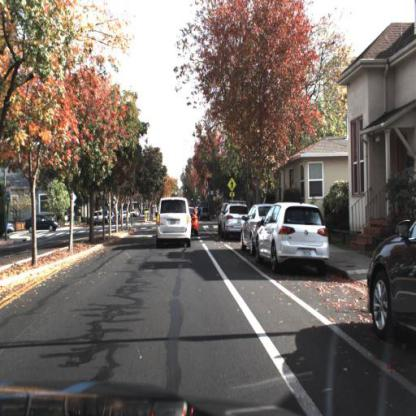car: (368, 207, 416, 339), (256, 199, 332, 278), (152, 194, 193, 254), (240, 203, 271, 254), (220, 201, 252, 243), (25, 211, 61, 238), (242, 206, 261, 251), (221, 201, 243, 239), (29, 212, 58, 232), (190, 207, 200, 238), (191, 206, 200, 237)
